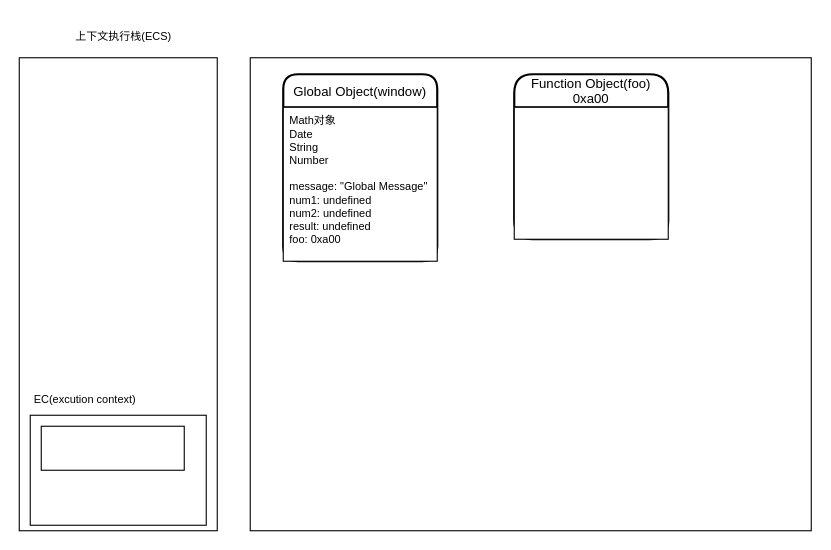
Image size: 831x550. Some labels were removed from this diagram. Each missing label, with the centre of its shape:
"name length" goes at (x=590, y=172).
"VO: GO scope chain this" goes at (x=112, y=447).
